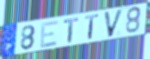8: (125, 6, 143, 36), (20, 25, 36, 51)
E: (39, 19, 60, 49)
T: (84, 14, 100, 41), (64, 17, 79, 44)
V: (103, 8, 125, 39)
